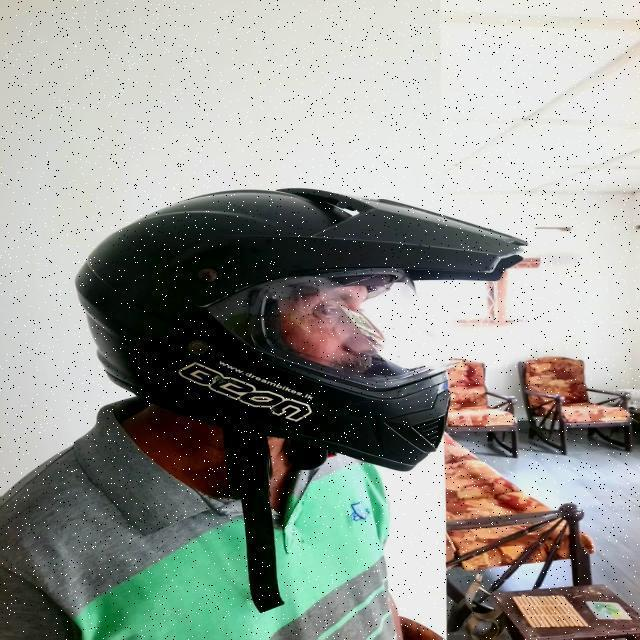helmet: (77, 182, 526, 615)
